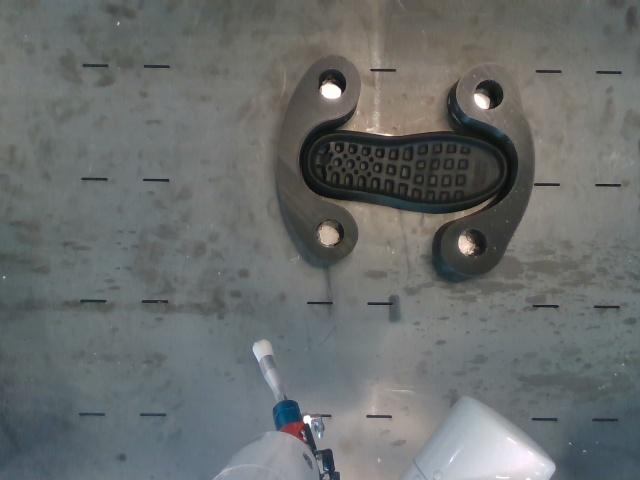shoes: (309, 135, 505, 204)
